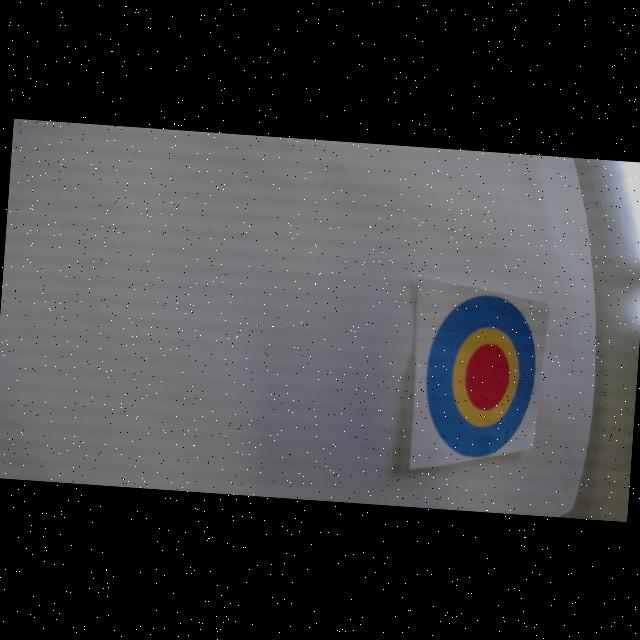COGNITIVE: (420, 291, 541, 460)
